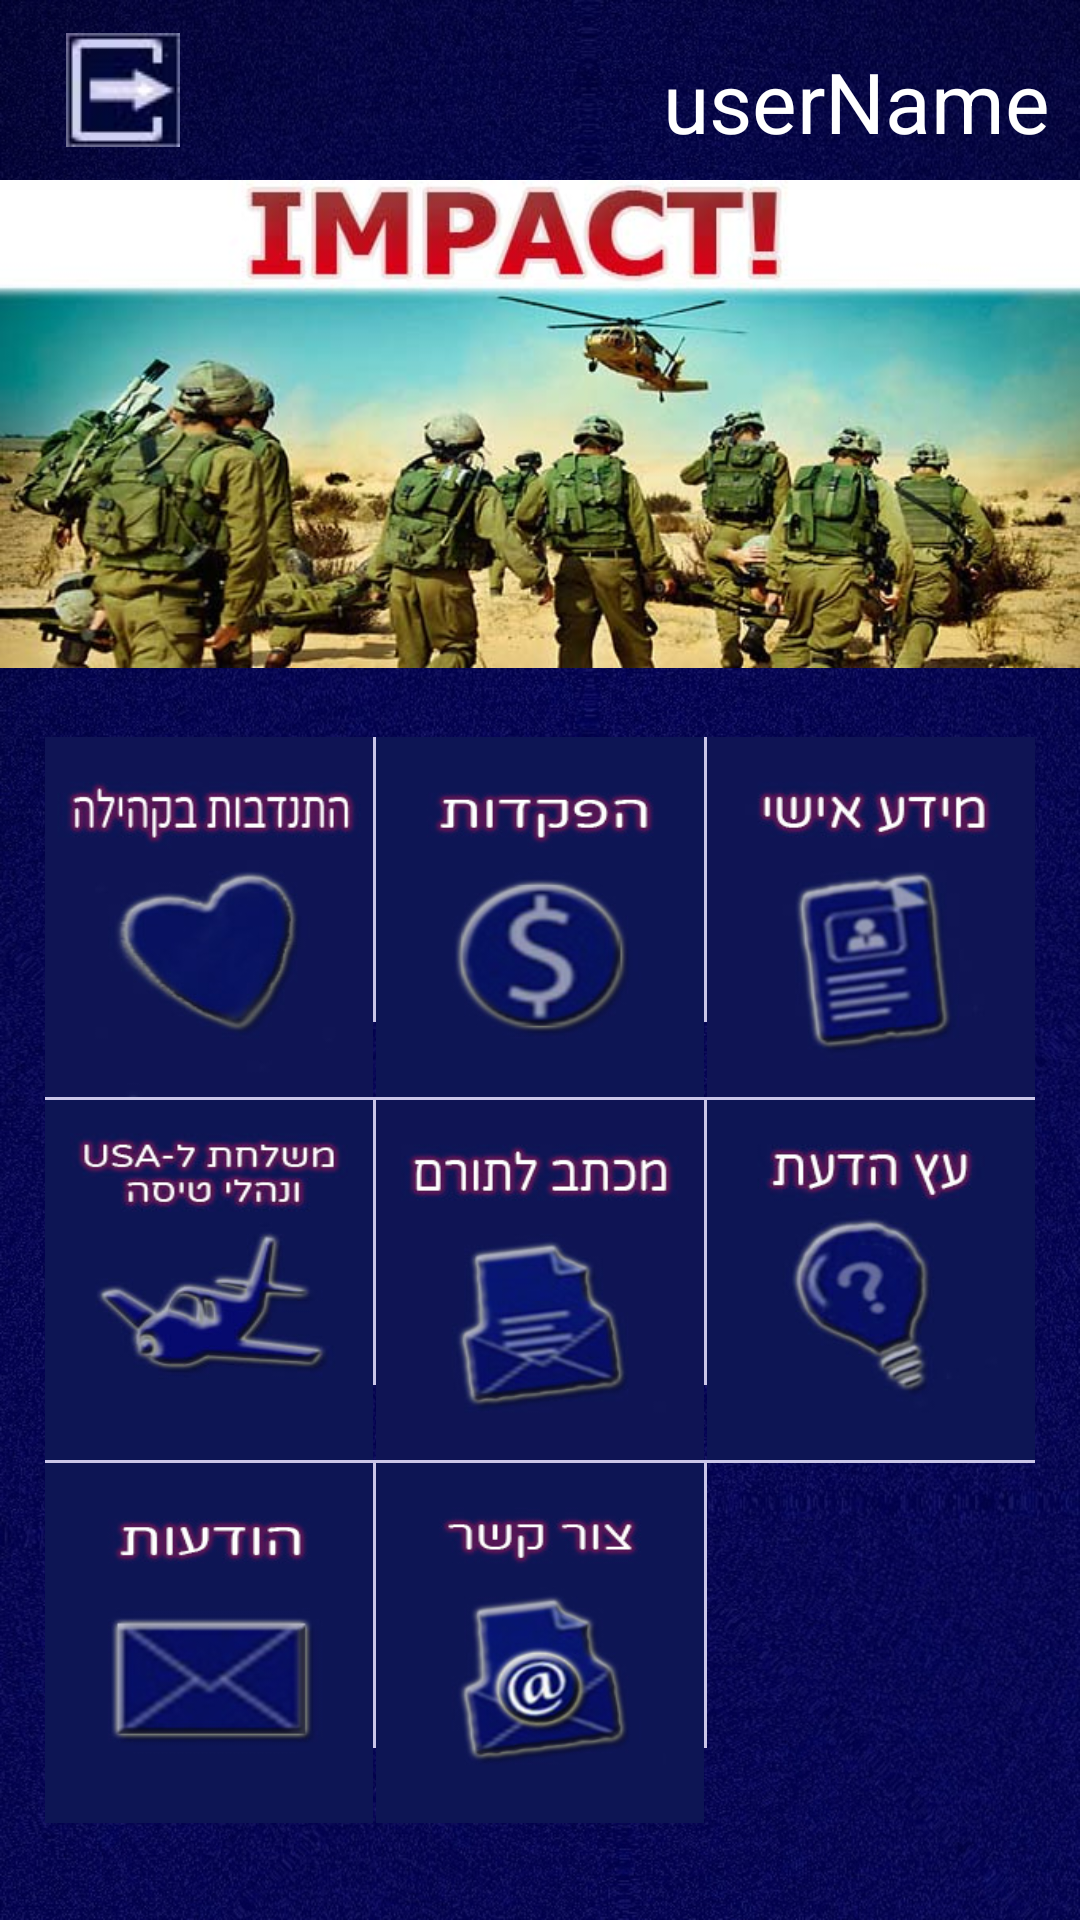

Icon bounding boxes for this 1080 x 1920 phone screenshot, format (x1, y1, x2, y2):
exit: (66, 33, 180, 147)
